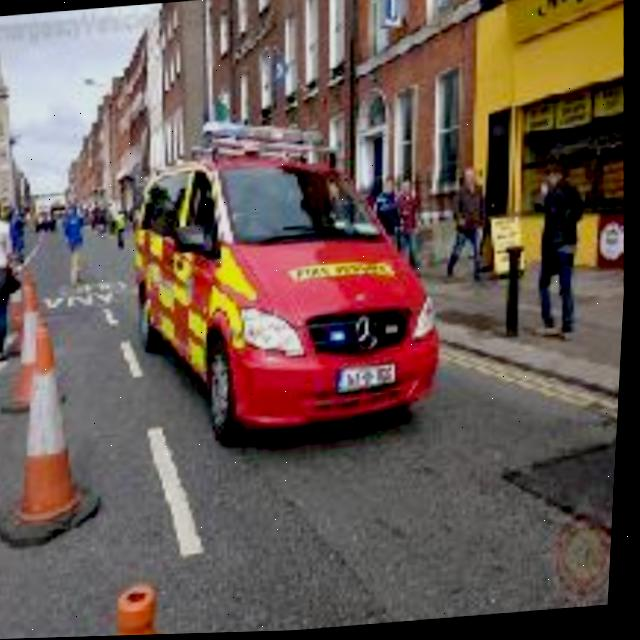emergency: (128, 112, 471, 447)
